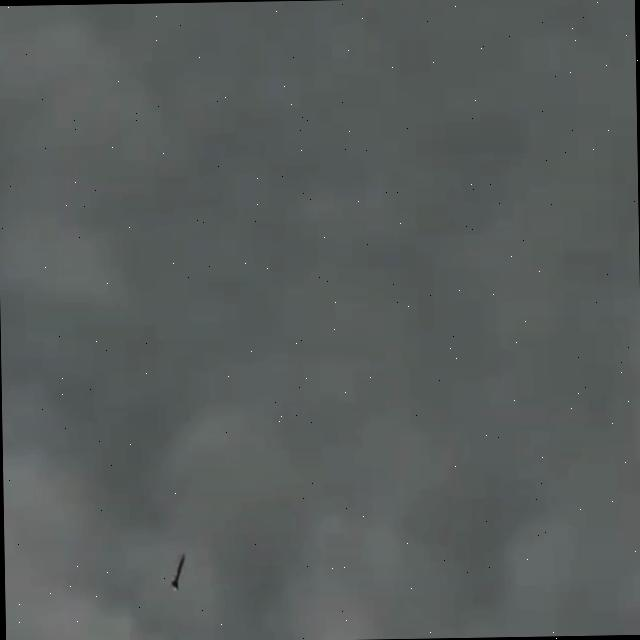rocket: (169, 552, 185, 590)
